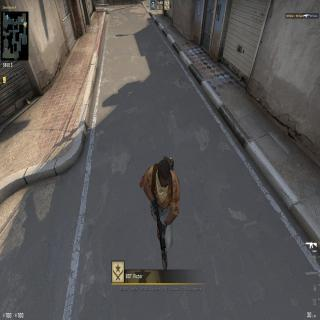T-Head: (155, 158, 172, 194)
